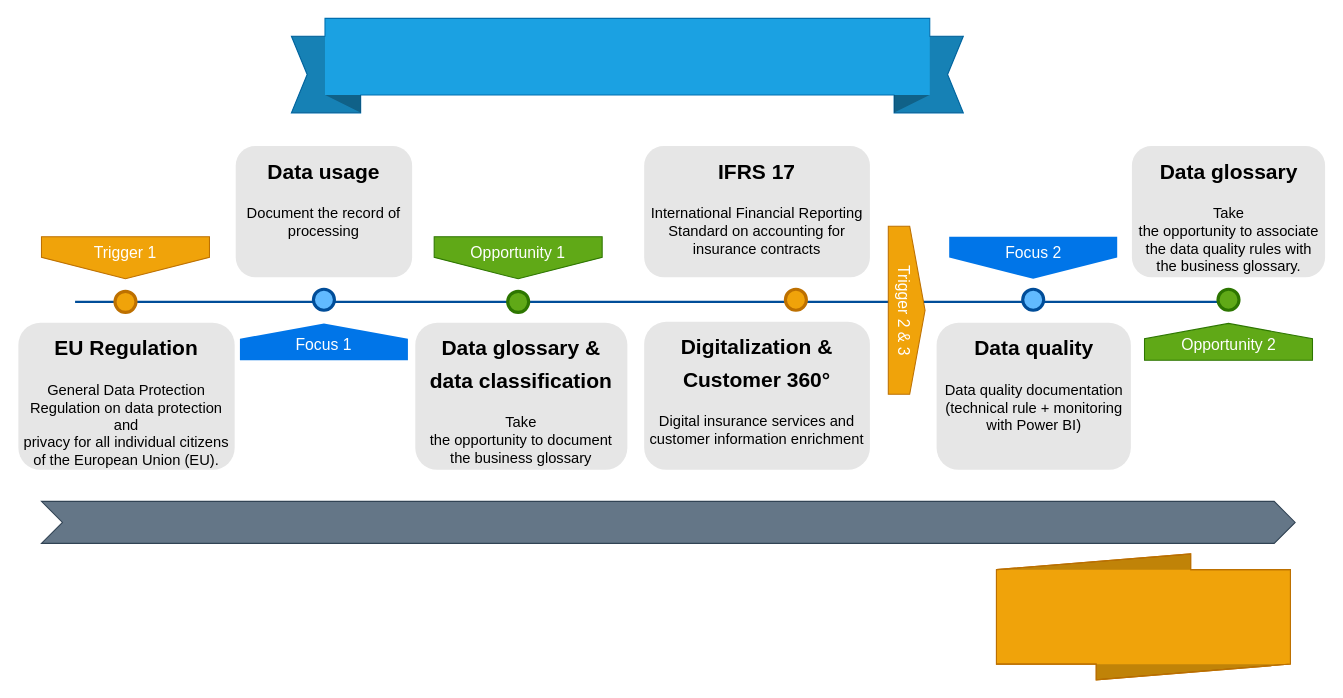
Some shapes in this 1343 by 698 pixel diagram are drawn without their labels. Here are the shapes that lost their labels. From the top down, the centre of each, then its label:
(626,65): 23 Data stewards & 23 Data owners (in July 19)
(667,521): Informatica developer + Informatica metadata manager + Informatica Analyst
(1142,616): Next triggers: Security (focus on secret data) Customer Data quality
